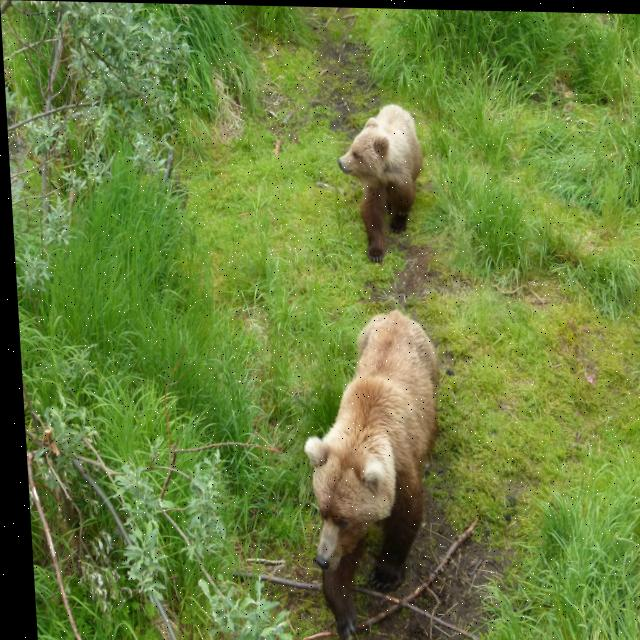bear face: (292, 309, 452, 638), (333, 101, 428, 264)
